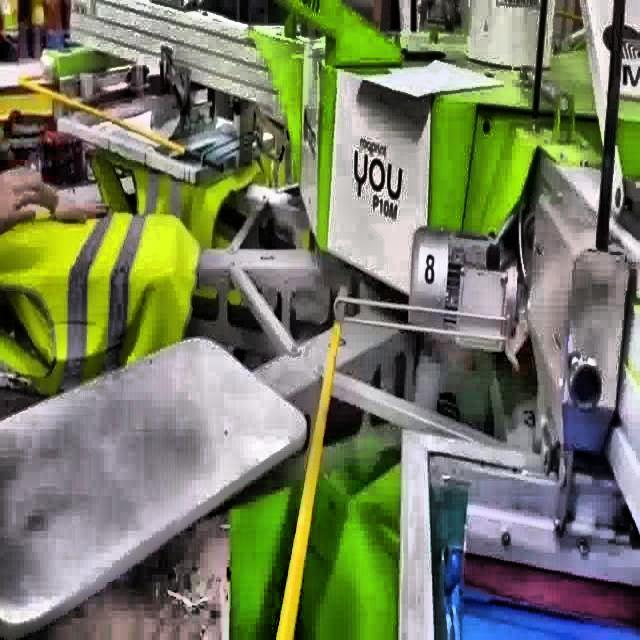safety_jacket: (0, 212, 200, 397)
